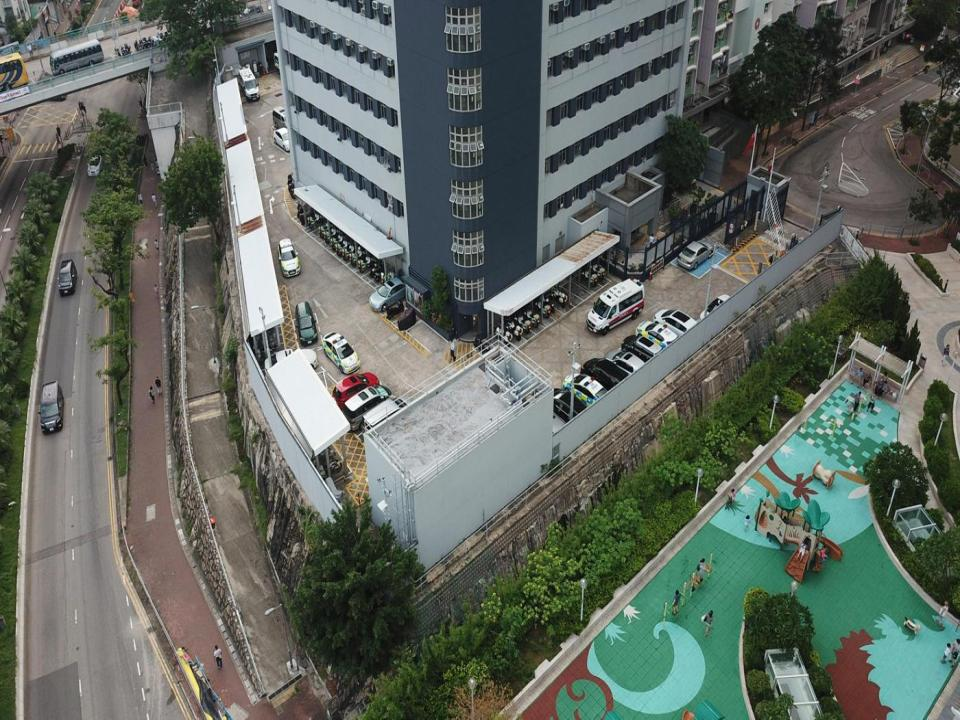bus: (50, 38, 104, 76), (0, 50, 28, 96)
car: (544, 384, 588, 429), (561, 371, 606, 409), (329, 372, 379, 406), (322, 331, 359, 373), (606, 346, 648, 382), (655, 309, 698, 341), (264, 349, 317, 373), (370, 277, 405, 313), (620, 336, 663, 364), (635, 320, 678, 345), (677, 238, 714, 267), (700, 292, 729, 322), (278, 238, 300, 277), (273, 128, 294, 151), (237, 5, 264, 19), (87, 151, 102, 176)
van: (341, 385, 390, 430), (363, 396, 411, 438), (580, 357, 629, 394), (40, 381, 63, 433), (293, 302, 317, 344), (57, 260, 76, 296), (272, 106, 292, 128)
